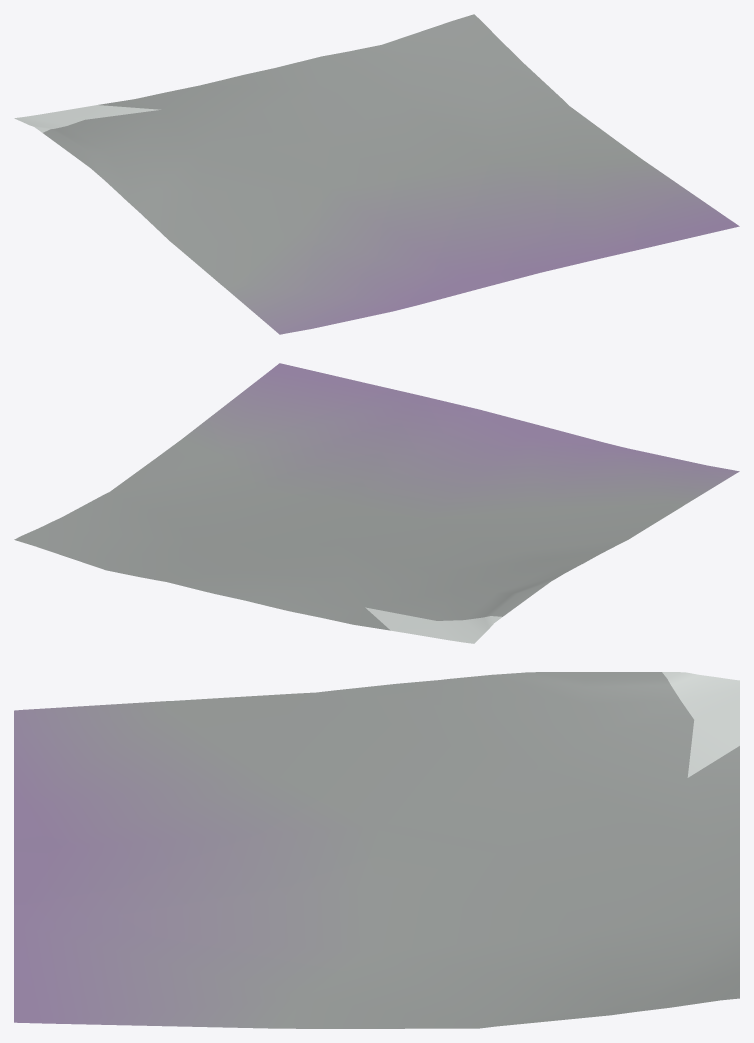
The picture shows the model from 3 angles, top to bottom: view 1: azimuth 30°, elevation 25°; view 2: azimuth 150°, elevation 25°; view 3: azimuth 270°, elevation 25°; orthographic projection. The views are drawn at different scales.
Parts seen in each view (by area): view 1: G:\FFXIV-MapTools\exports\m5f1\bg\ex4\02_mid_m5\fld\m5f1\bgp (×3); view 2: G:\FFXIV-MapTools\exports\m5f1\bg\ex4\02_mid_m5\fld\m5f1\bgp (×3); view 3: G:\FFXIV-MapTools\exports\m5f1\bg\ex4\02_mid_m5\fld\m5f1\bgp (×3).
Boxes of the visible parts, x1,y1,x2,y2 form: G:\FFXIV-MapTools\exports\m5f1\bg\ex4\02_mid_m5\fld\m5f1\bgp (×3): (14, 14, 739, 334); G:\FFXIV-MapTools\exports\m5f1\bg\ex4\02_mid_m5\fld\m5f1\bgp (×3): (14, 363, 739, 643); G:\FFXIV-MapTools\exports\m5f1\bg\ex4\02_mid_m5\fld\m5f1\bgp (×3): (14, 672, 739, 1028).
Size of the model in its own units: 128 by 9.75 by 128.
